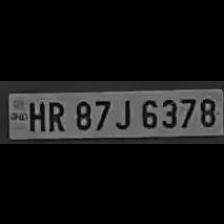3: (158, 95, 176, 127)
6: (136, 95, 158, 127)
7: (90, 96, 110, 130), (177, 93, 195, 126)
8: (70, 96, 92, 130), (196, 94, 216, 126)
H: (24, 97, 46, 130)
J: (112, 96, 134, 128)
R: (43, 97, 66, 131)
